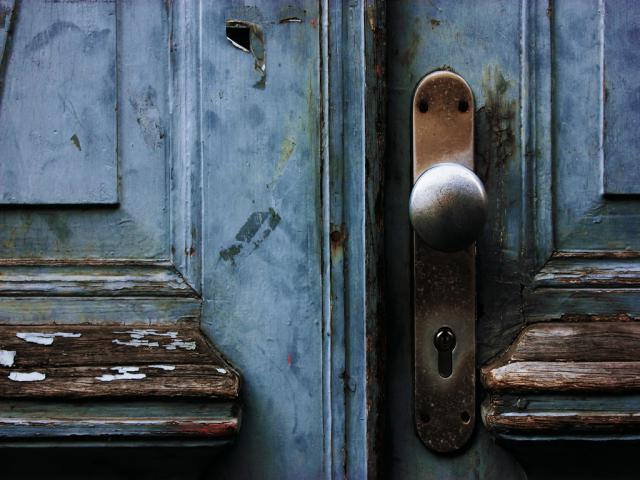Door-handle: (413, 70, 488, 459)
